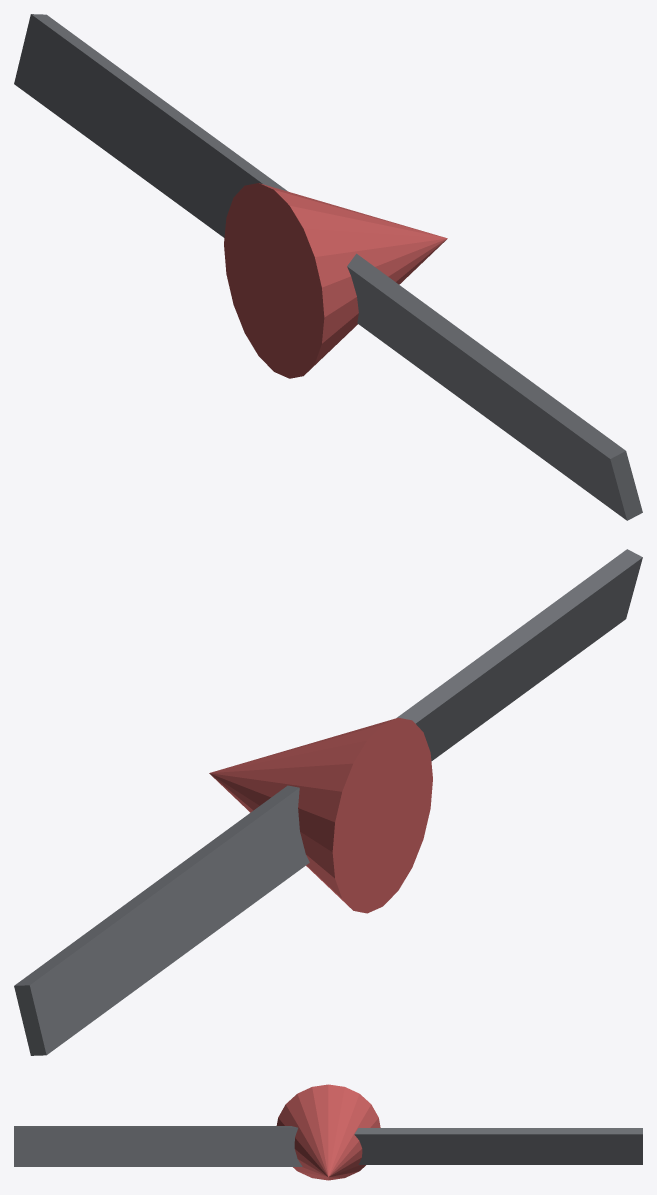
The model's file is c172_propeller.glb.
3 renders of one model, top to bottom at view 1: azimuth 30°, elevation 25°; view 2: azimuth 150°, elevation 25°; view 3: azimuth 270°, elevation 25°, orthographic. The views are drawn at different scales.
Parts seen in each view (by area): view 1: spinner, blade1, blade0; view 2: blade1, spinner, blade0; view 3: blade0, blade1, spinner.
Boxes of the visible parts, x1,y1,x2,y2 form: spinner: (224, 183, 447, 378); blade1: (14, 14, 287, 237); blade0: (347, 253, 642, 520); blade1: (14, 785, 309, 1055); spinner: (209, 717, 432, 913); blade0: (397, 549, 642, 761); blade0: (14, 1126, 302, 1166); blade1: (354, 1128, 642, 1164); spinner: (276, 1084, 380, 1180).
Bounding box in the file's own units: 0.32 × 0.32 × 1.9.
